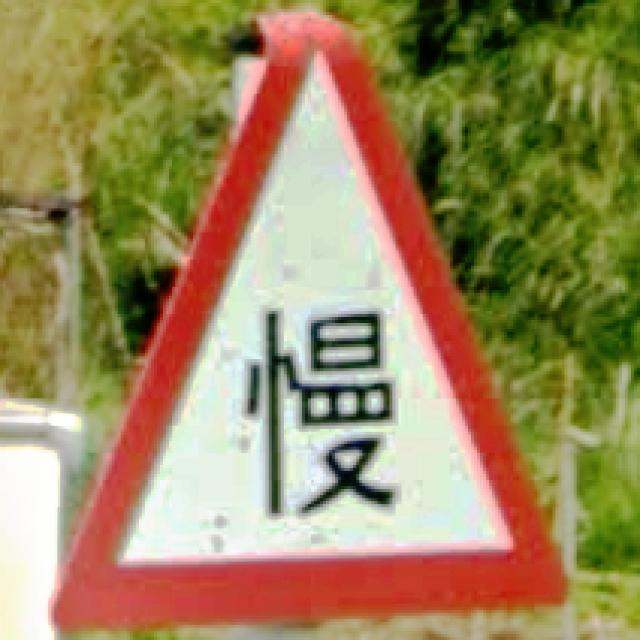slow: (51, 12, 571, 637)
